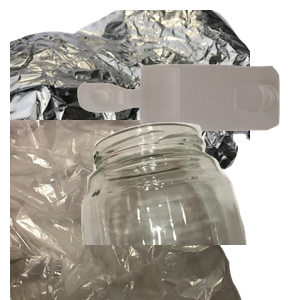glass: (74, 120, 300, 300)
metal: (10, 10, 250, 190)
plastic: (75, 62, 300, 186)
trash: (10, 120, 244, 300)
